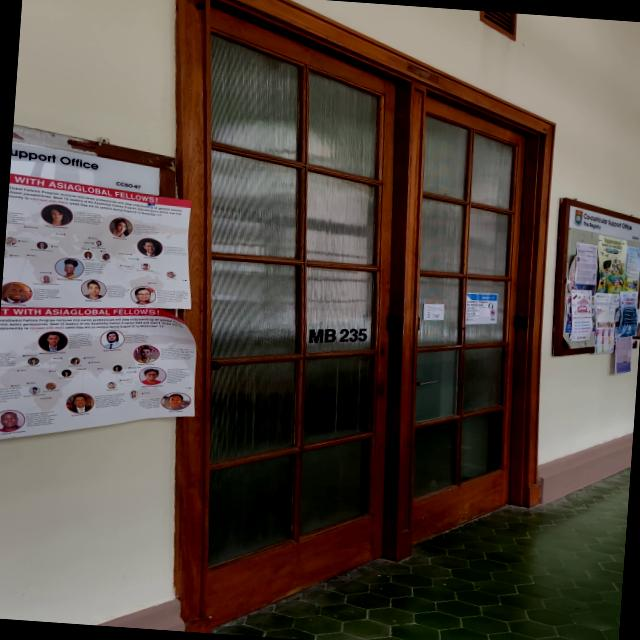room235Window: (305, 322, 369, 347)
